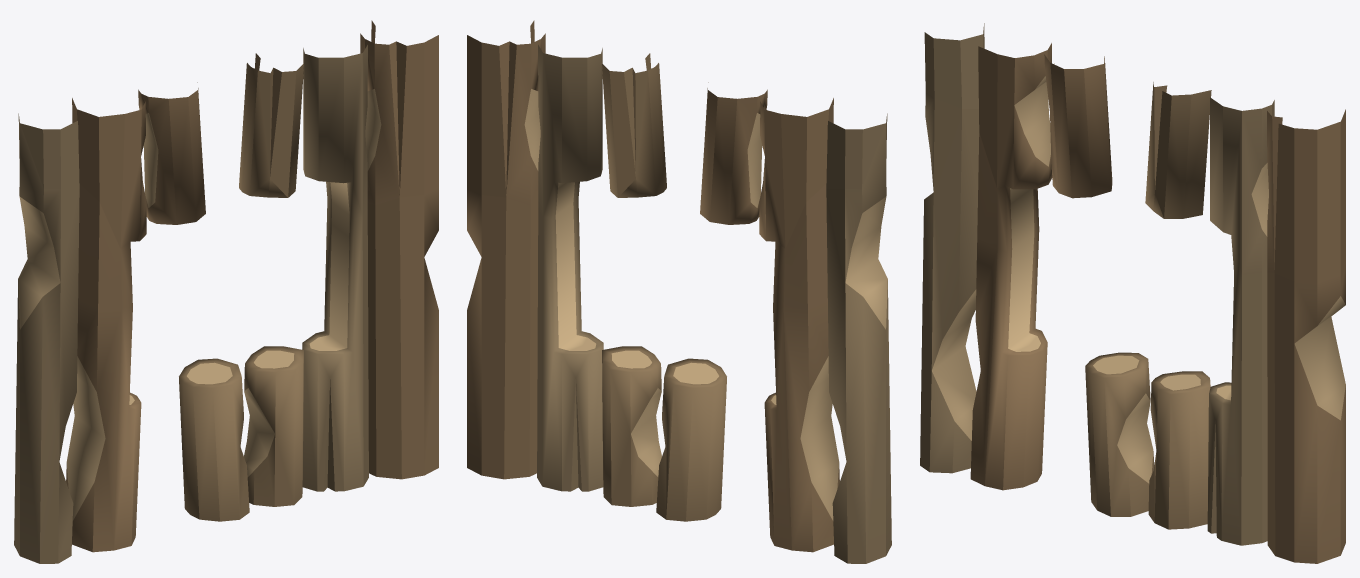
Rendered from rpgpp_av_wall_04_3x3_window_01a.gltf.
3 views of the same model, side by side, from view 1: azimuth 30°, elevation 25°; view 2: azimuth 150°, elevation 25°; view 3: azimuth 330°, elevation 25° (orthographic).
Parts seen in each view (by area): view 1: rpgpp_av_wall_04_3x3_window_01a; view 2: rpgpp_av_wall_04_3x3_window_01a; view 3: rpgpp_av_wall_04_3x3_window_01a.
Boxes of the visible parts, <box> form: rpgpp_av_wall_04_3x3_window_01a: <box>14,20,438,563</box>; rpgpp_av_wall_04_3x3_window_01a: <box>467,20,891,563</box>; rpgpp_av_wall_04_3x3_window_01a: <box>920,23,1345,563</box>.
Size of the model in its own units: 0.03 by 0.03 by 0.00463.
1 material, 1 textured.
